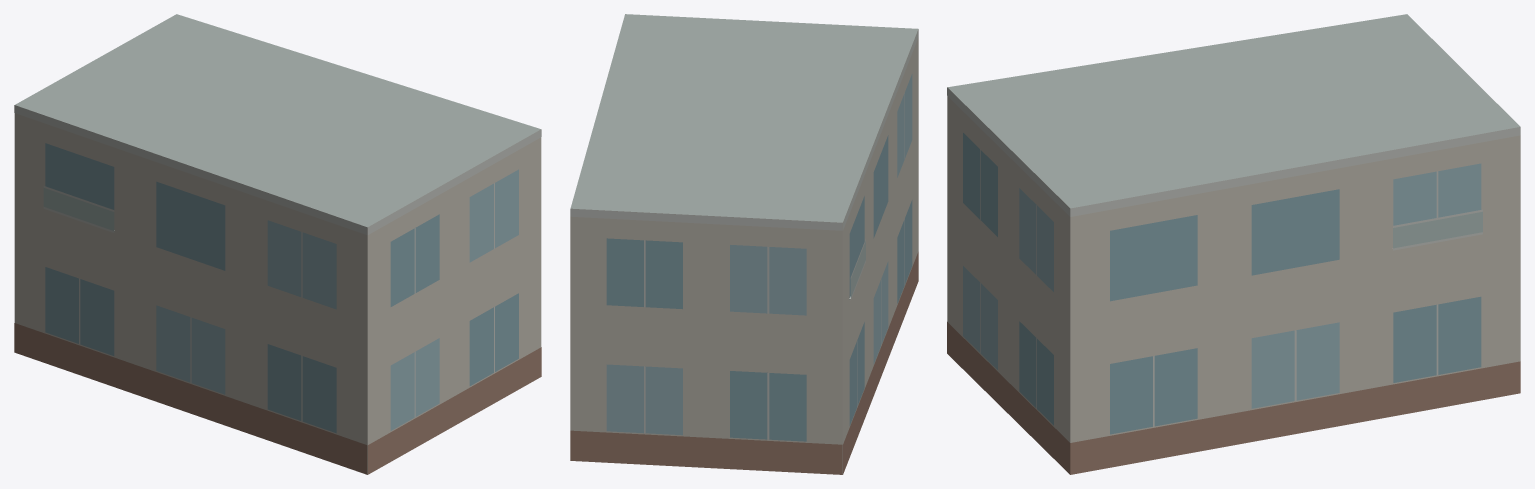
File: survey-upis-32494411.glb
3 views of the same model, side by side, from view 1: azimuth 30°, elevation 25°; view 2: azimuth 150°, elevation 25°; view 3: azimuth 270°, elevation 25° (orthographic). The views are drawn at different scales.
Parts seen in each view (by area): view 1: survey-upis-32494411.tmp; view 2: survey-upis-32494411.tmp; view 3: survey-upis-32494411.tmp.
Part boxes in pixels (bbox=[...]): survey-upis-32494411.tmp: bbox=[14, 14, 541, 474]; survey-upis-32494411.tmp: bbox=[570, 14, 918, 474]; survey-upis-32494411.tmp: bbox=[947, 14, 1520, 474].
Bounding box in the file's own units: 11.91 × 7.6 × 14.84.
